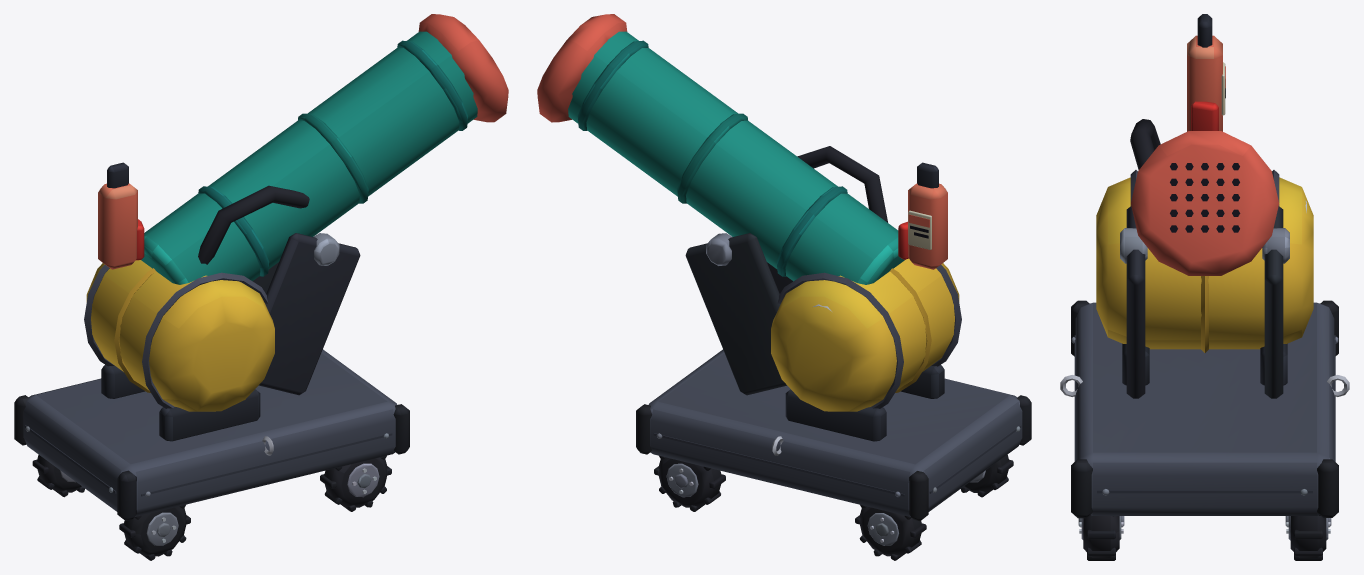
The model's file is SM_Station_FoamCannon.fbx.
3 renders of one model, left to right at view 1: azimuth 30°, elevation 25°; view 2: azimuth 150°, elevation 25°; view 3: azimuth 270°, elevation 25°, orthographic. The views are drawn at different scales.
Parts seen in each view (by area): view 1: SM_Station_FoamCannon; view 2: SM_Station_FoamCannon; view 3: SM_Station_FoamCannon.
Part boxes in pixels (bbox=[...]): SM_Station_FoamCannon: bbox=[14, 14, 508, 560]; SM_Station_FoamCannon: bbox=[537, 14, 1031, 560]; SM_Station_FoamCannon: bbox=[1060, 14, 1349, 560].
Bounding box in the file's own units: 137 × 129 × 67.06.
